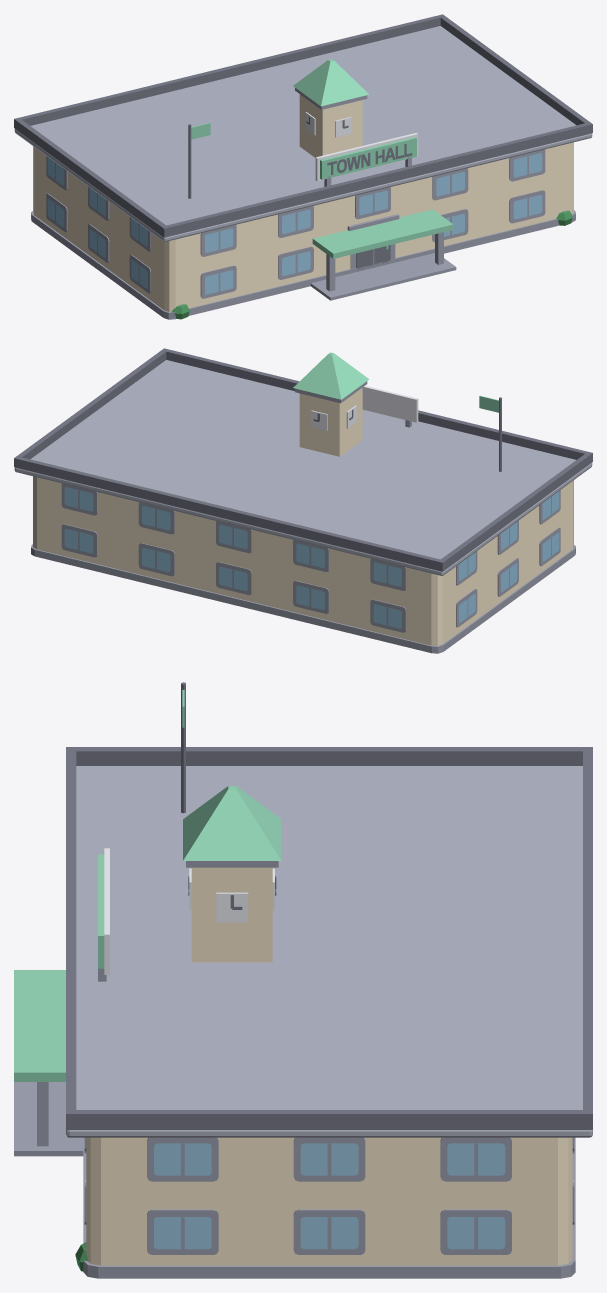
Rendered from town-hall-3x2.glb.
The picture shows the model from 3 angles, top to bottom: view 1: azimuth 30°, elevation 25°; view 2: azimuth 150°, elevation 25°; view 3: azimuth 270°, elevation 25°; orthographic projection. The views are drawn at different scales.
Visible parts, largest first — view 1: town-hall-3x2; view 2: town-hall-3x2; view 3: town-hall-3x2.
Boxes of the visible parts, x1,y1,x2,y2 form: town-hall-3x2: [14, 14, 592, 319]; town-hall-3x2: [14, 348, 592, 653]; town-hall-3x2: [14, 682, 592, 1278].
Bounding box in the file's own units: 3 × 1.2 × 2.
Materials: 1 (1 with a texture image).
